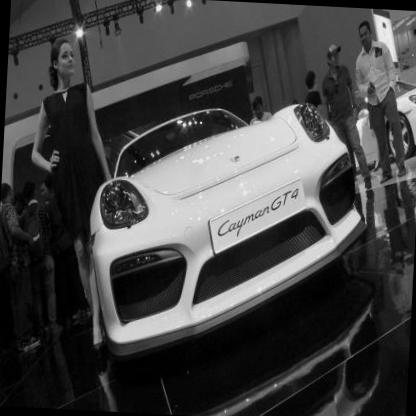car: (53, 73, 400, 374)
